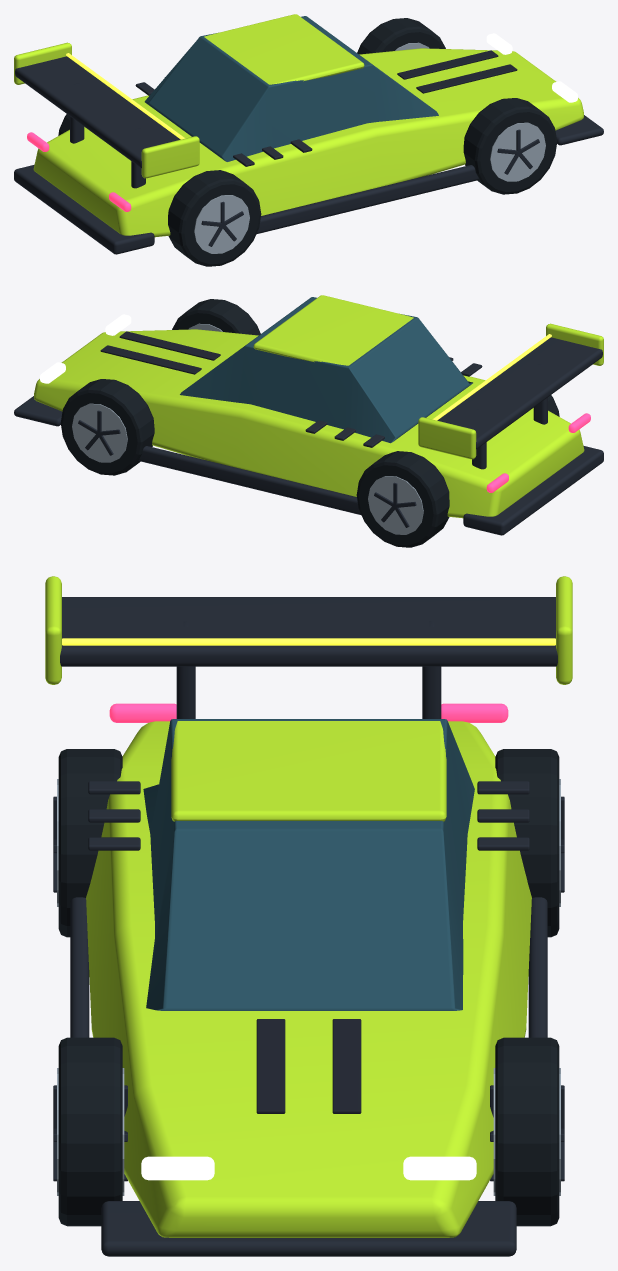
The model's file is needle.glb.
3 views of the same model, one above another, from view 1: azimuth 30°, elevation 25°; view 2: azimuth 150°, elevation 25°; view 3: azimuth 270°, elevation 25° (orthographic). The views are drawn at different scales.
Parts seen in each view (by area): view 1: Aero coupe body, Canopy, Rear aero wing, Roof, needle_Wheel_R_L, needle_Wheel_F_L, Side skirt, Rear diffuser, needle_WheelHub, needle_WheelHub.002, needle_Wheel_F_R, Wing endplate (+6 smaller); view 2: Aero coupe body, Canopy, Rear aero wing, Roof, needle_Wheel_R_R, needle_Wheel_F_R, Side skirt.001, Rear diffuser, needle_WheelHub.001, needle_WheelHub.003, needle_Wheel_F_L, Wing endplate.001 (+6 smaller); view 3: Aero coupe body, Canopy, Rear aero wing, Roof, needle_Wheel_F_L, needle_Wheel_F_R, Front splitter, needle_Wheel_R_L, needle_Wheel_R_R, Wing colour strip, Hood racing stripe, Hood racing stripe.001 (+10 smaller).
Part boxes in pixels (box(x1,y1,x2,y2)): Aero coupe body: box(33, 48, 583, 237); Canopy: box(144, 16, 438, 161); Rear aero wing: box(15, 56, 180, 168); Roof: box(204, 14, 364, 84); needle_Wheel_R_L: box(168, 170, 261, 266); needle_Wheel_F_L: box(463, 98, 557, 194); Side skirt: box(256, 165, 479, 234); Rear diffuser: box(14, 164, 154, 254); needle_WheelHub: box(194, 195, 249, 253); needle_WheelHub.002: box(490, 122, 545, 181); needle_Wheel_F_R: box(357, 18, 445, 54); Wing endplate: box(141, 136, 199, 178); Aero coupe body: box(34, 329, 584, 518); Canopy: box(180, 297, 472, 443); Rear aero wing: box(437, 337, 602, 449); Roof: box(253, 295, 413, 365); needle_Wheel_R_R: box(356, 451, 449, 547); needle_Wheel_F_R: box(60, 379, 154, 475); Side skirt.001: box(138, 446, 361, 515); Rear diffuser: box(463, 445, 603, 535); needle_WheelHub.001: box(368, 476, 423, 534); needle_WheelHub.003: box(72, 403, 127, 462); needle_Wheel_F_L: box(172, 299, 260, 335); Wing endplate.001: box(418, 417, 476, 459); Aero coupe body: box(86, 721, 531, 1237); Canopy: box(143, 719, 474, 1010); Rear aero wing: box(60, 597, 557, 666); Roof: box(171, 721, 446, 821); needle_Wheel_F_L: box(58, 1037, 122, 1226); needle_Wheel_F_R: box(495, 1037, 559, 1226); Front splitter: box(101, 1201, 516, 1256); needle_Wheel_R_L: box(58, 749, 122, 937); needle_Wheel_R_R: box(495, 749, 559, 937); Wing colour strip: box(62, 638, 555, 645); Hood racing stripe: box(256, 1019, 285, 1113); Hood racing stripe.001: box(332, 1019, 361, 1113).
Bounding box in the file's own units: 4.77 × 1.32 × 2.22.
